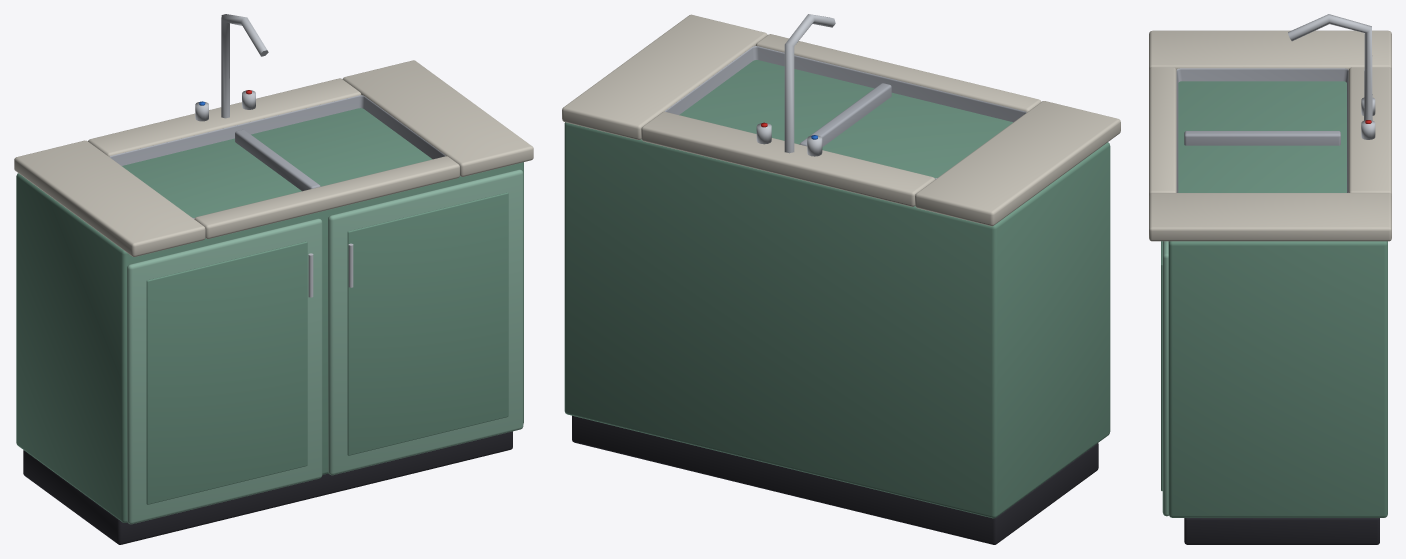
The model's file is counter_sink.glb.
3 renders of one model, left to right at view 1: azimuth 30°, elevation 25°; view 2: azimuth 150°, elevation 25°; view 3: azimuth 270°, elevation 25°, orthographic. The views are drawn at different scales.
Visible parts, largest first — view 1: counter_sink; view 2: counter_sink; view 3: counter_sink.
Boxes of the visible parts, left/top/right/bottom form: counter_sink: left=14, top=14, right=533, bottom=544; counter_sink: left=562, top=14, right=1120, bottom=544; counter_sink: left=1149, top=14, right=1391, bottom=544.
Size of the model in its own units: 1.2 by 1.22 by 0.62.
